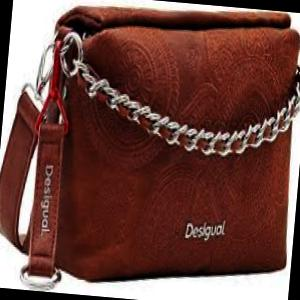desigual: (36, 159, 58, 238), (182, 218, 229, 249)
